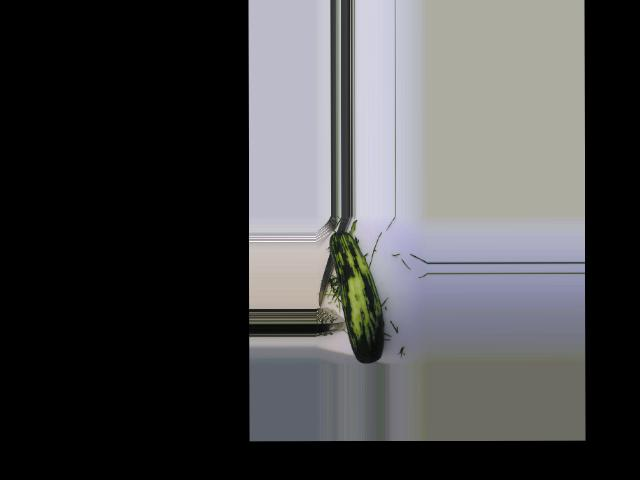cucumber: (329, 230, 384, 363)
